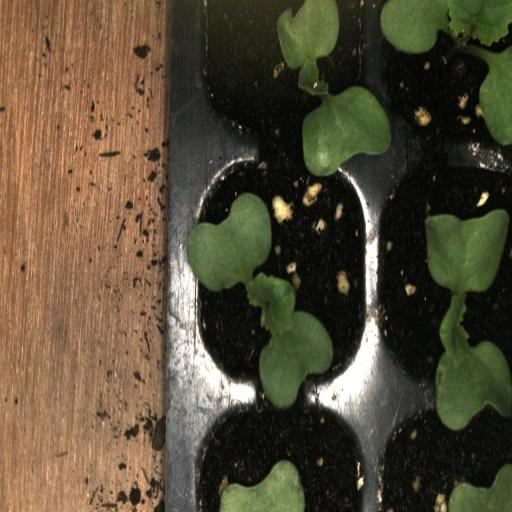Folha: (219, 460, 305, 512), (448, 464, 512, 512)
Germinacao: (186, 148, 373, 396), (372, 147, 512, 395), (192, 0, 371, 147), (371, 0, 512, 148)
